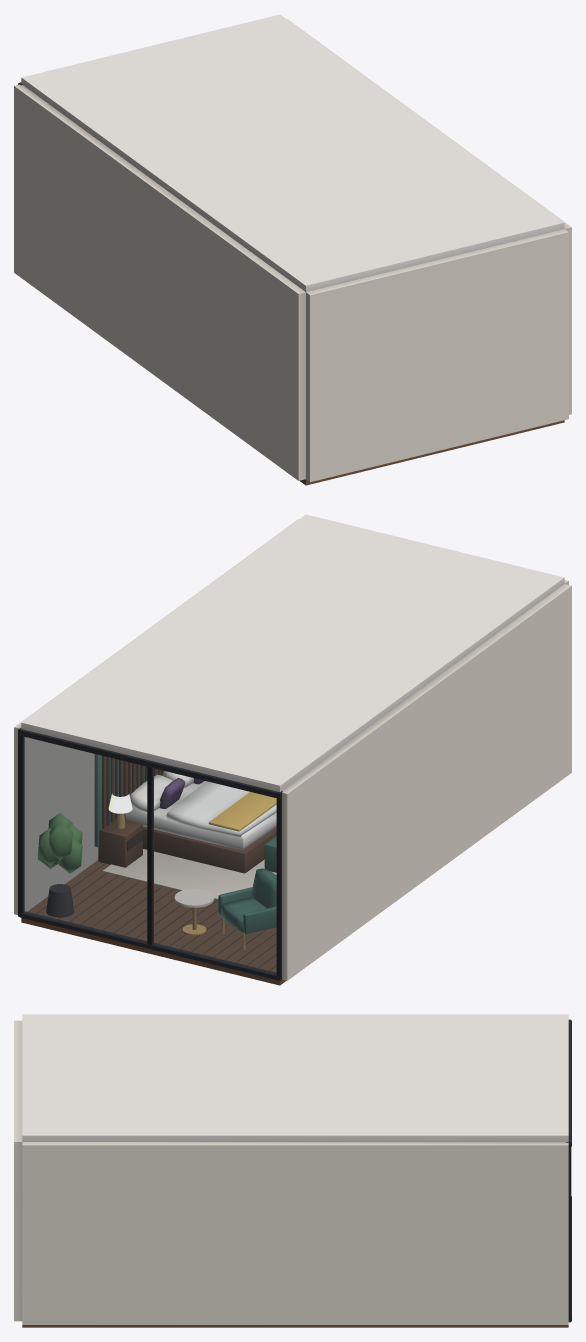
File: os-castle.glb
The picture shows the model from 3 angles, top to bottom: view 1: azimuth 30°, elevation 25°; view 2: azimuth 150°, elevation 25°; view 3: azimuth 270°, elevation 25°; orthographic projection. The views are drawn at different scales.
Visible parts, largest first — view 1: Room_wall, Room_ceiling, Room_floor; view 2: Room_ceiling, Room_wall, Room_glass, Room_floor, Room_frameDark, Room_wood, Room_rug, Room_linen, Room_fabric2, Room_duvet, Room_leaf, Room_throw (+5 smaller); view 3: Room_wall, Room_ceiling, Room_floor, Room_frameDark.
Boxes of the visible parts, left/top/right/bottom form: Room_wall: left=14, top=19, right=571, bottom=482; Room_ceiling: left=21, top=14, right=564, bottom=291; Room_floor: left=299, top=420, right=564, bottom=485; Room_ceiling: left=21, top=514, right=564, bottom=791; Room_wall: left=14, top=519, right=571, bottom=980; Room_glass: left=24, top=737, right=275, bottom=973; Room_floor: left=21, top=860, right=286, bottom=985; Room_frameDark: left=18, top=728, right=282, bottom=980; Room_wood: left=98, top=755, right=276, bottom=873; Room_rug: left=102, top=849, right=276, bottom=899; Room_linen: left=125, top=771, right=276, bottom=850; Room_fabric2: left=218, top=836, right=276, bottom=933; Room_duvet: left=166, top=781, right=276, bottom=837; Room_leaf: left=37, top=813, right=82, bottom=873; Room_throw: left=208, top=792, right=276, bottom=831; Room_wall: left=14, top=1020, right=568, bottom=1324; Room_ceiling: left=22, top=1014, right=568, bottom=1141; Room_floor: left=22, top=1325, right=568, bottom=1327; Room_frameDark: left=566, top=1019, right=571, bottom=1322.
Size of the model in its own units: 4.44 by 3.1 by 8.17.
